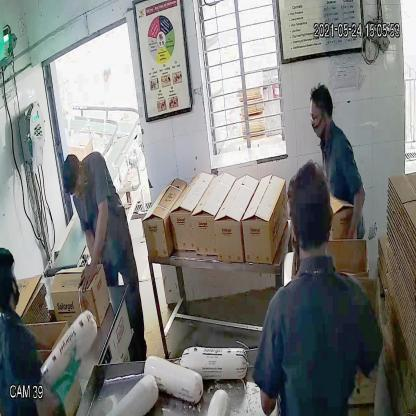goggles: (306, 105, 328, 128)
